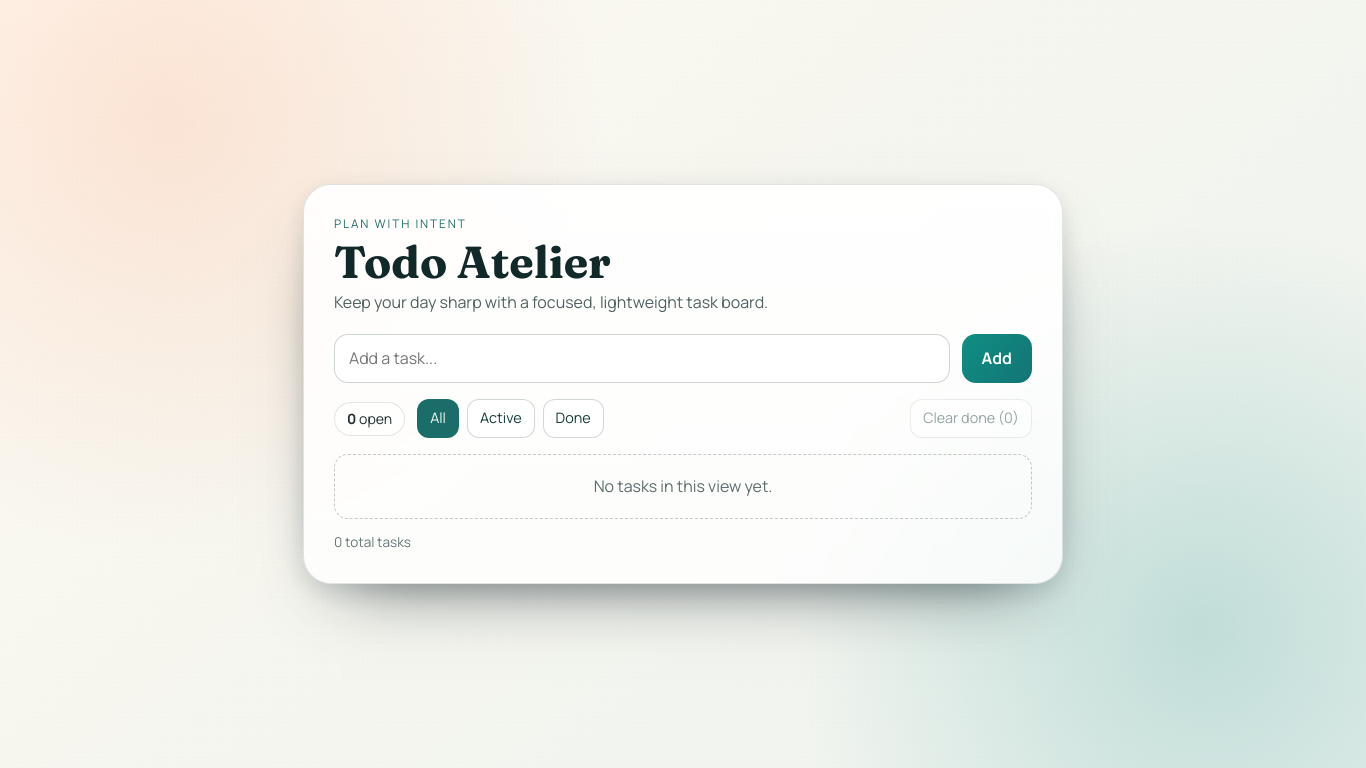
Test: App › deletes a todo
Type "Delete me" into the field with placeholder "Add a task...". click: (642, 359)
box: [334,334,950,383]
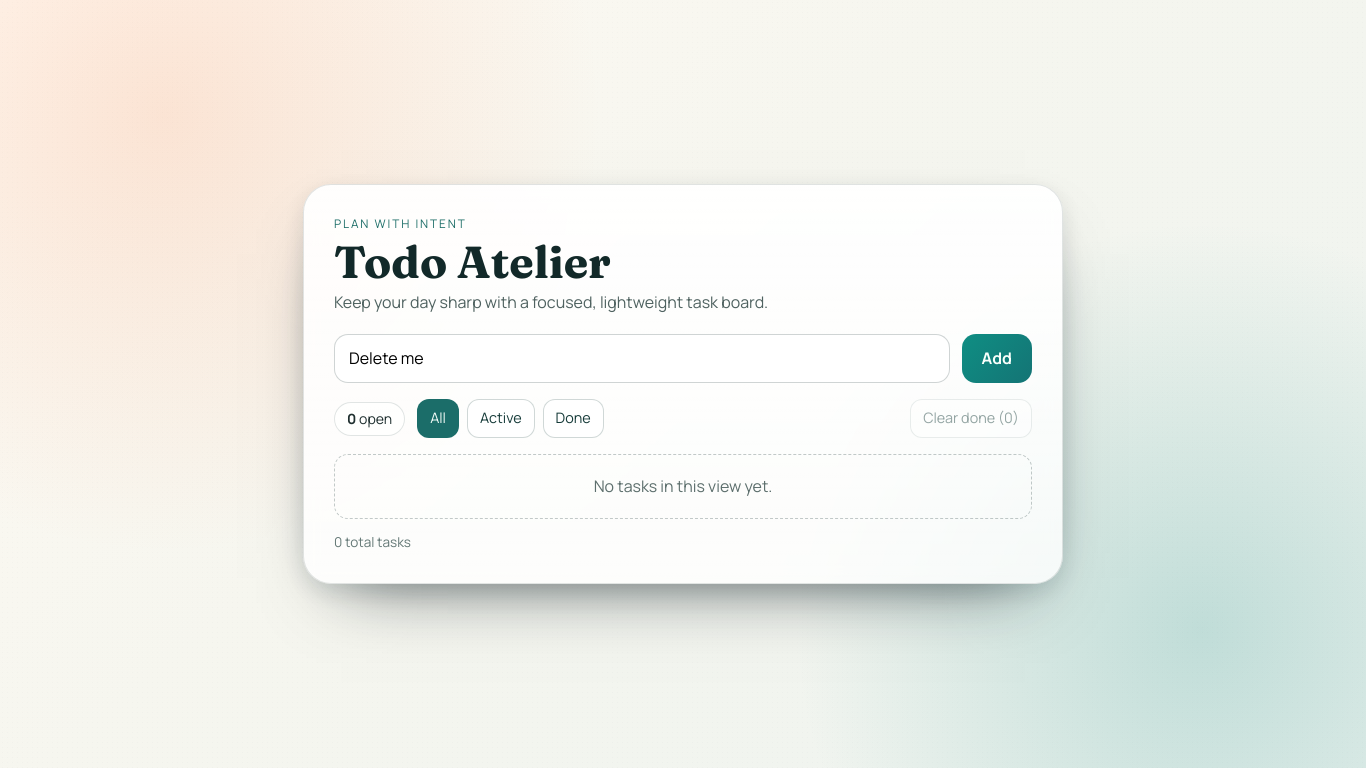
Click the button "Add". click: (997, 359)
box: [962,334,1032,383]
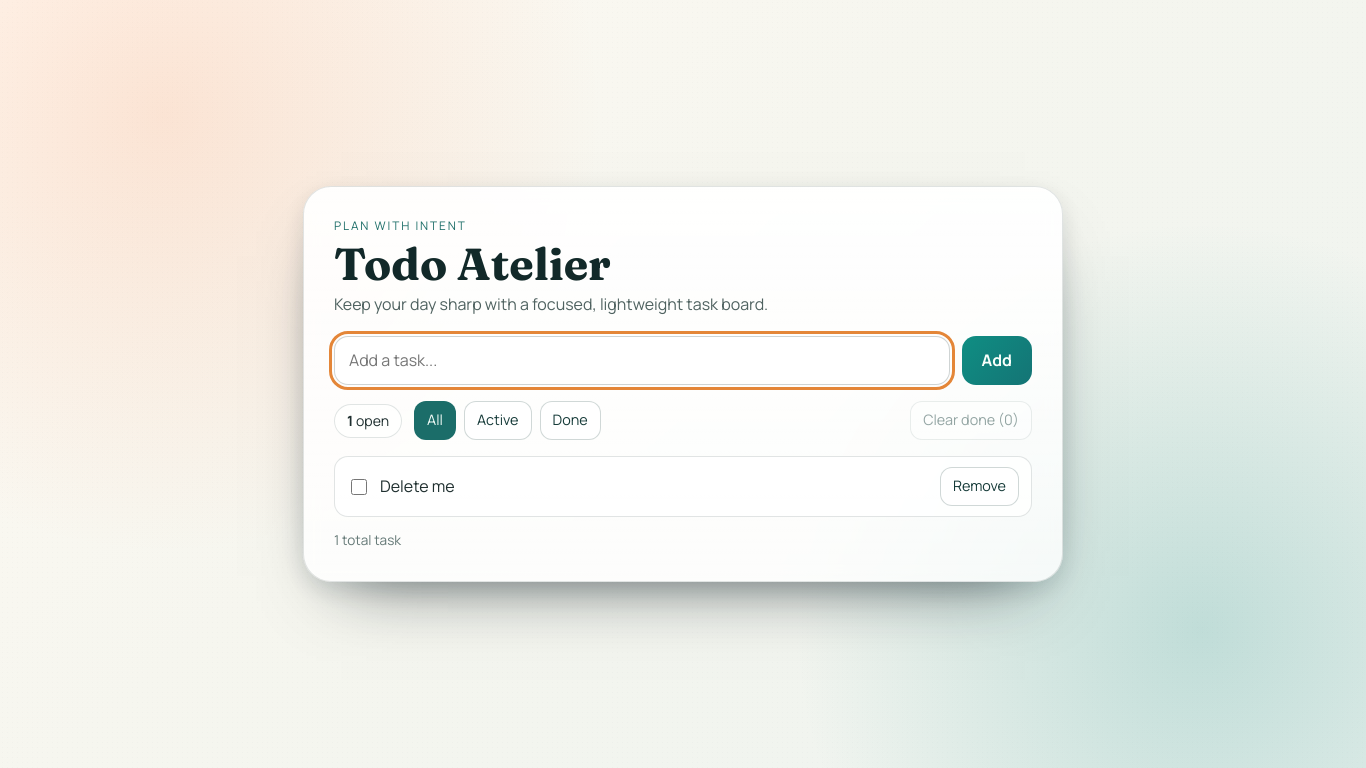
Click the button with aria-label "Delete Delete me". click: (979, 487)
box: [940,467,1019,506]
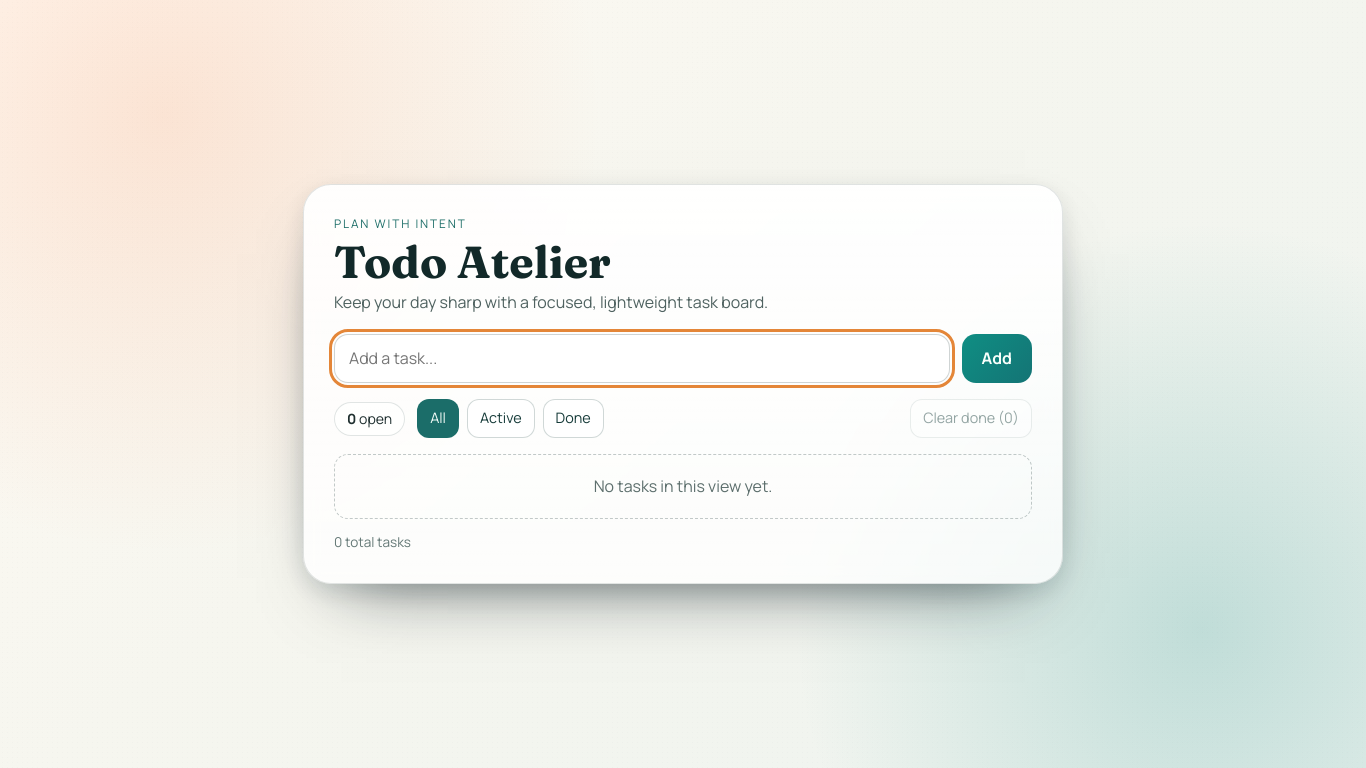
Now the text "Delete me" is gone
Now the list item "No tasks in this view yet." is shown, box [334,454,1032,519]
